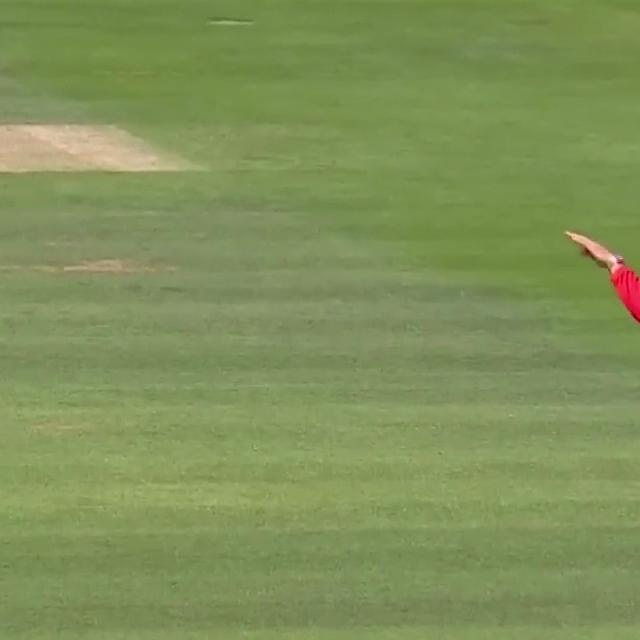umpire: (547, 179, 640, 640)
